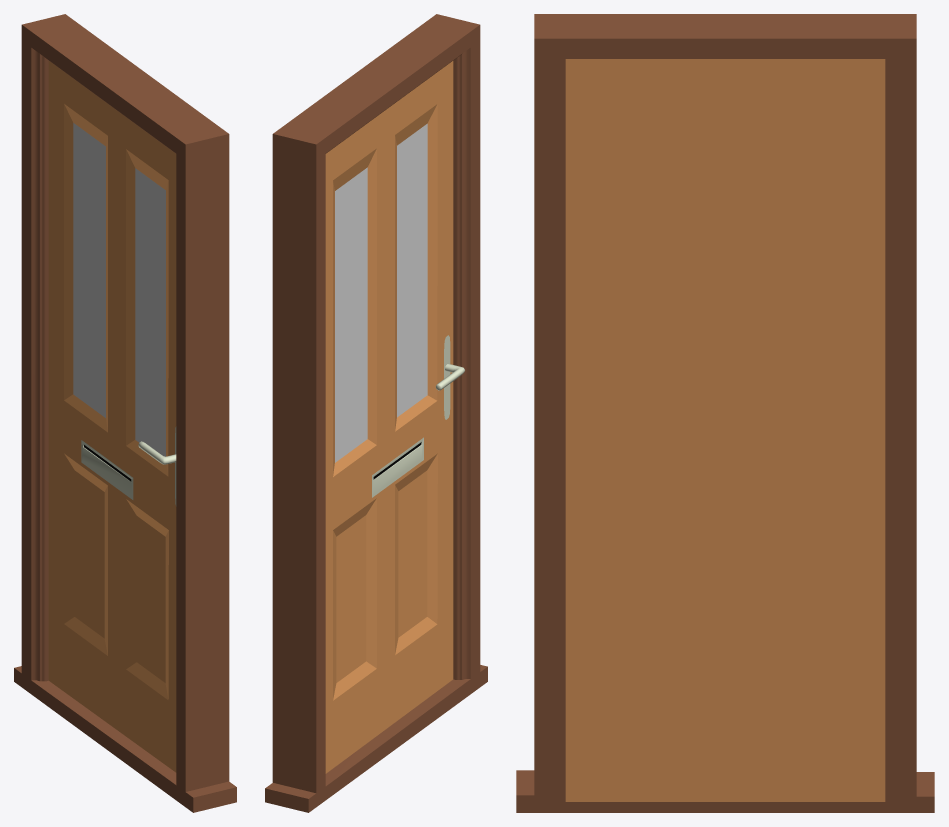
File: Door.fbx
3 views of the same model, side by side, from view 1: azimuth 30°, elevation 25°; view 2: azimuth 150°, elevation 25°; view 3: azimuth 270°, elevation 25° (orthographic). The views are drawn at different scales.
Parts seen in each view (by area): view 1: Door; view 2: Door; view 3: Door.
Boxes of the visible parts, box(x1,y1,x2,y2) form: Door: box(14, 14, 236, 812); Door: box(265, 14, 487, 812); Door: box(516, 14, 934, 812).
Bounding box in the file's own units: 0.181 × 2.38 × 1.17.
